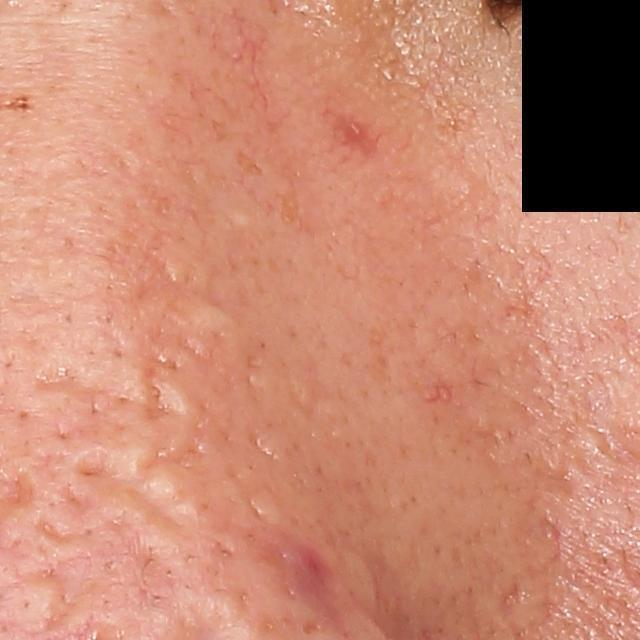atrophic_scar: (76, 450, 196, 529), (139, 371, 190, 423), (132, 251, 185, 301), (128, 546, 183, 593), (37, 369, 108, 405), (5, 459, 38, 509), (60, 485, 100, 513), (37, 518, 74, 546)
